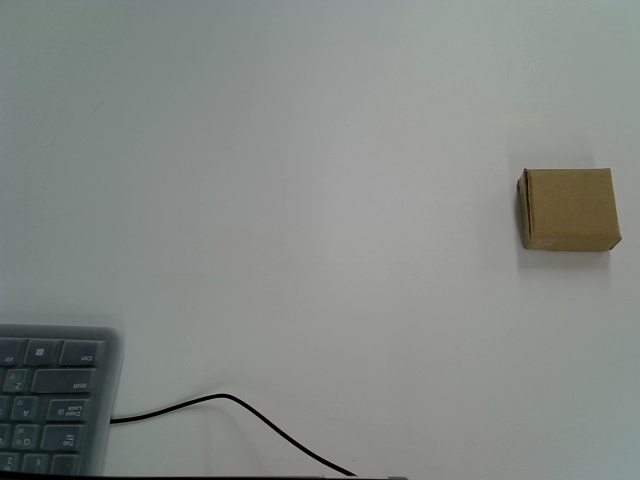normal: (516, 166, 622, 254)
